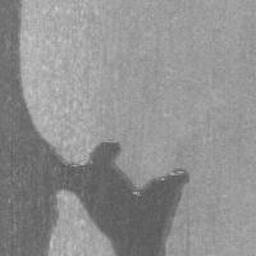Water spot: (0, 0, 193, 256)
